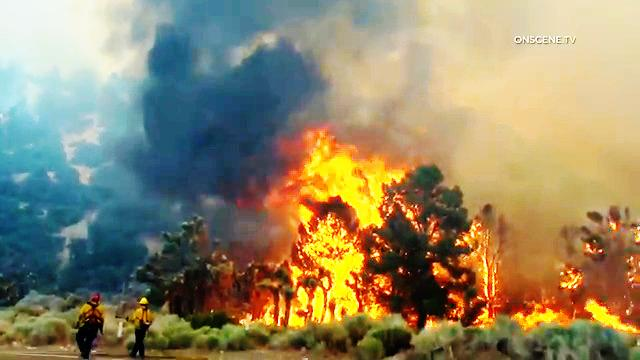fire: (272, 134, 396, 323)
smoke: (89, 4, 425, 132)
